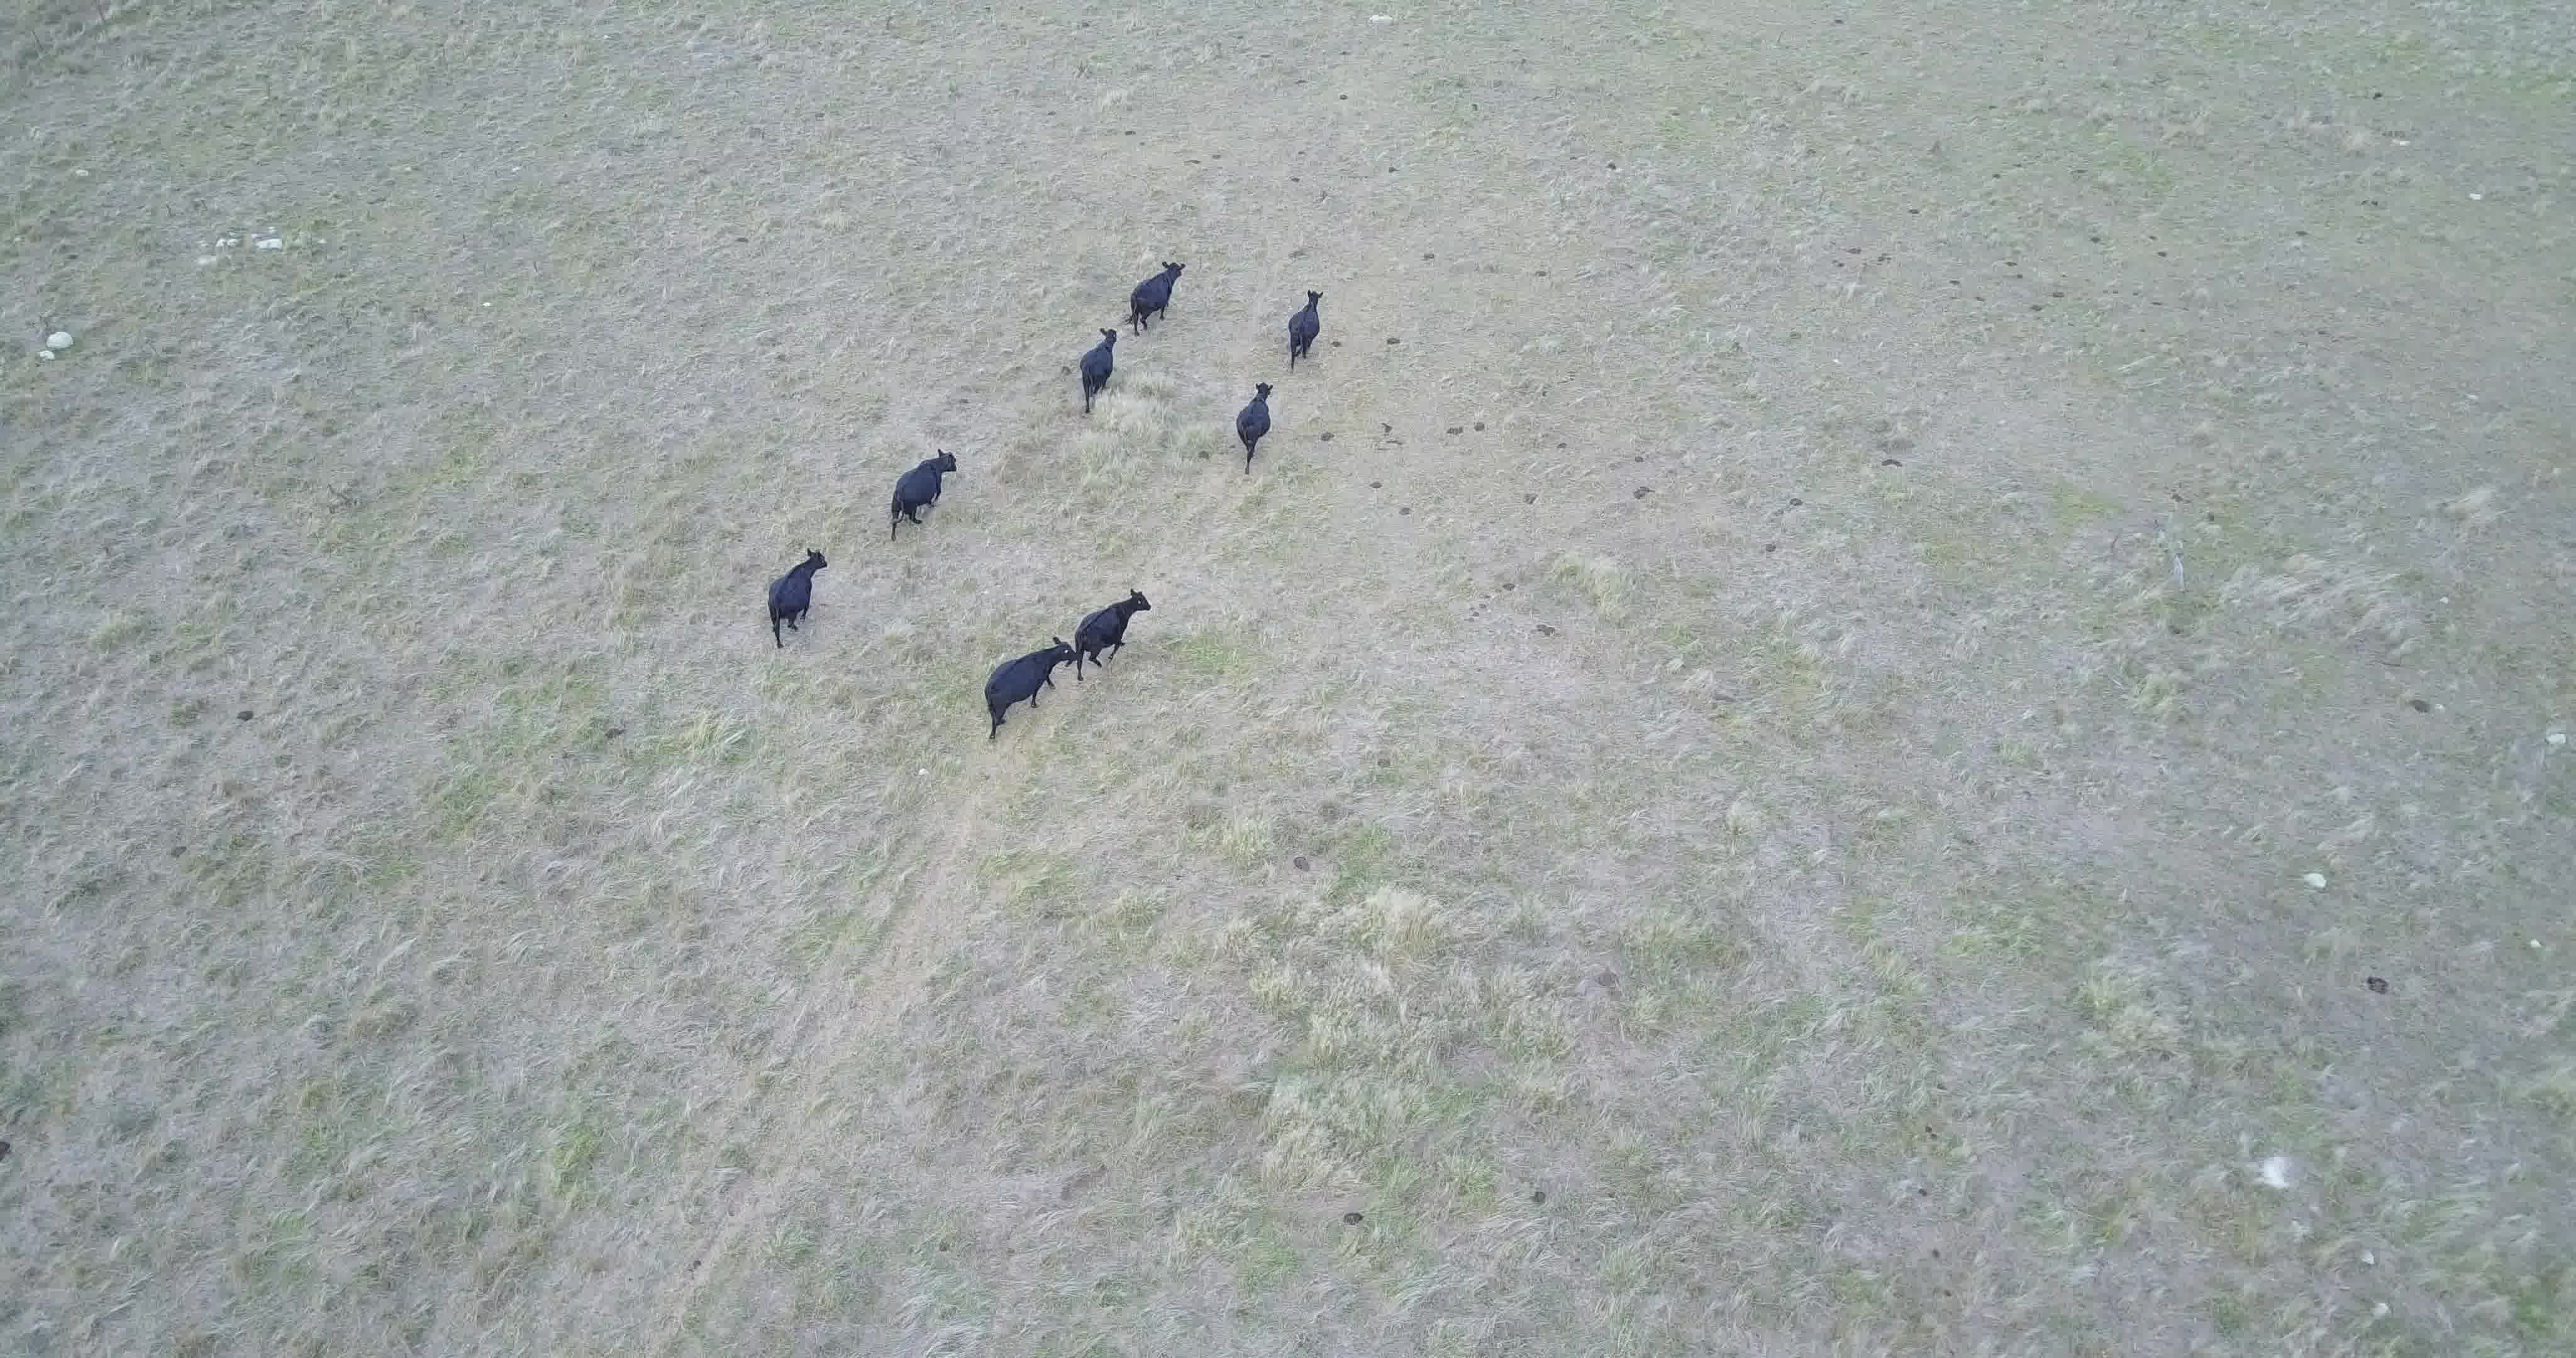cattle: (980, 632, 1078, 746), (1073, 588, 1153, 678), (886, 448, 959, 545), (767, 545, 830, 654), (1119, 259, 1187, 337), (1233, 378, 1274, 484), (1078, 327, 1121, 417), (1285, 285, 1324, 375)
